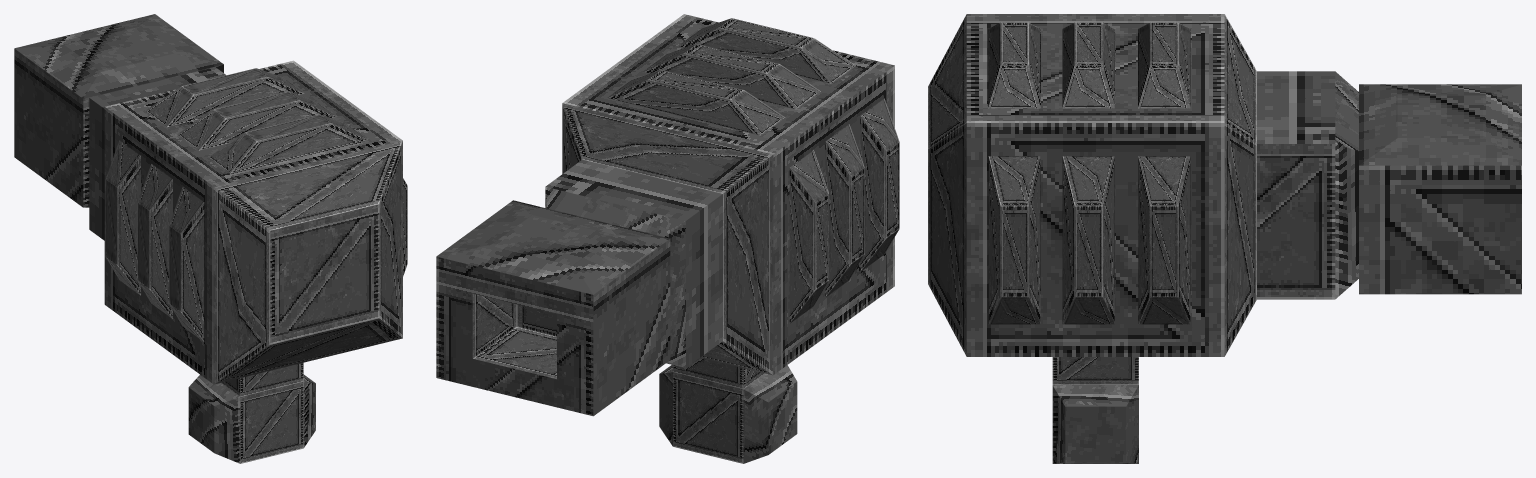
Rendered from gunner.dae.
3 views of the same model, side by side, from view 1: azimuth 30°, elevation 25°; view 2: azimuth 150°, elevation 25°; view 3: azimuth 270°, elevation 25° (orthographic). The views are drawn at different scales.
Visible parts, largest first — view 1: Cube; view 2: Cube; view 3: Cube.
Part boxes in pixels (x1,y1,x2,y2): Cube: (14, 14, 407, 463); Cube: (436, 14, 899, 463); Cube: (928, 14, 1521, 463).
Bounding box in the file's own units: 2.4 × 4.6 × 3.44.
Materials: 1 (1 with a texture image).
